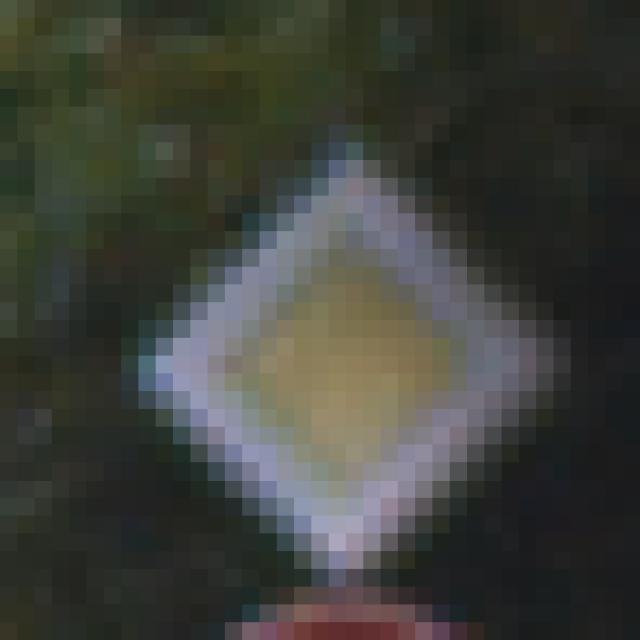Main Road: (105, 108, 554, 552)
